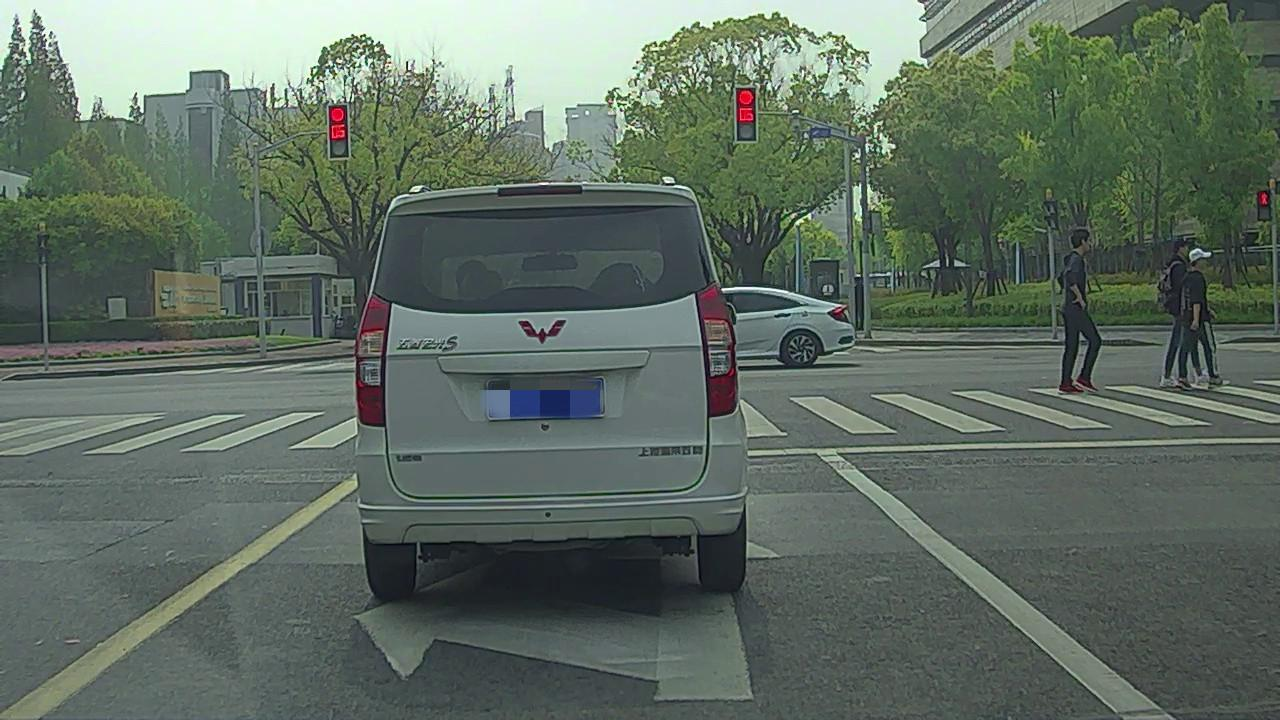traffic_light: (735, 88, 758, 144), (326, 107, 349, 159)
